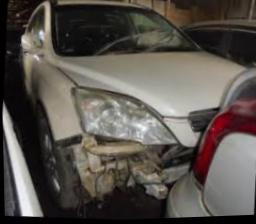Bumper: (70, 132, 192, 189)
